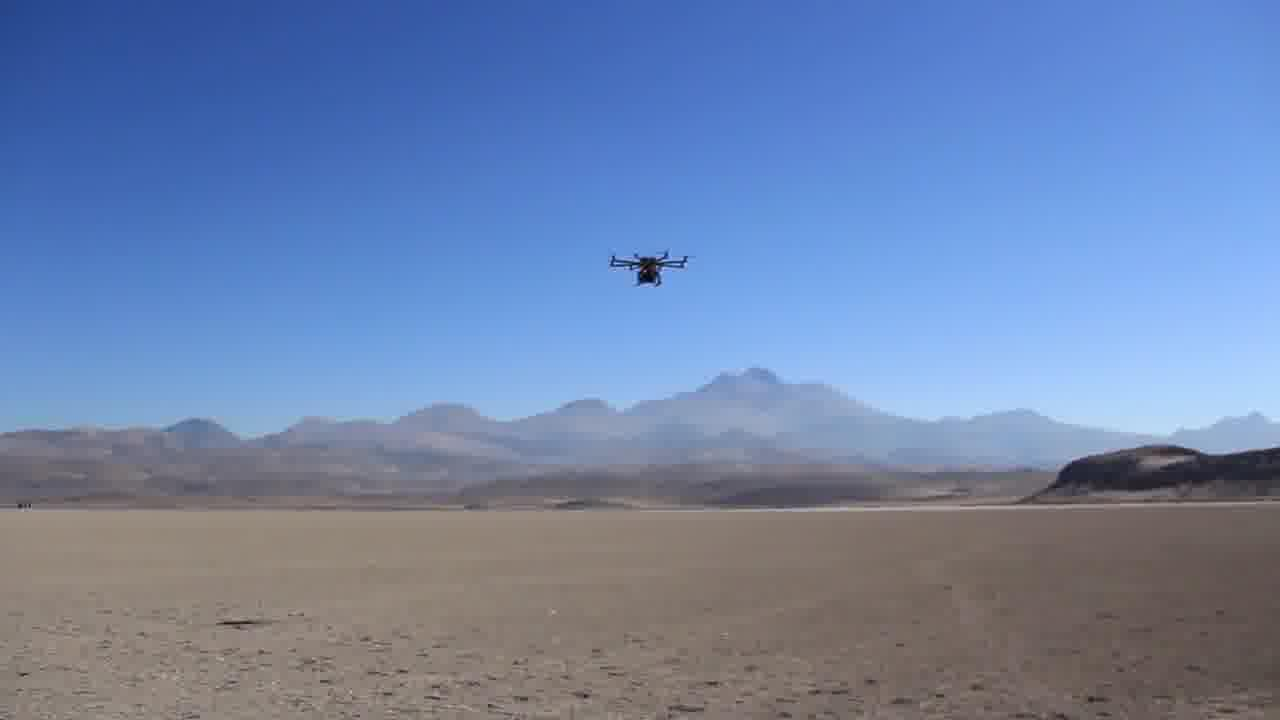drone: (602, 243, 692, 295)
